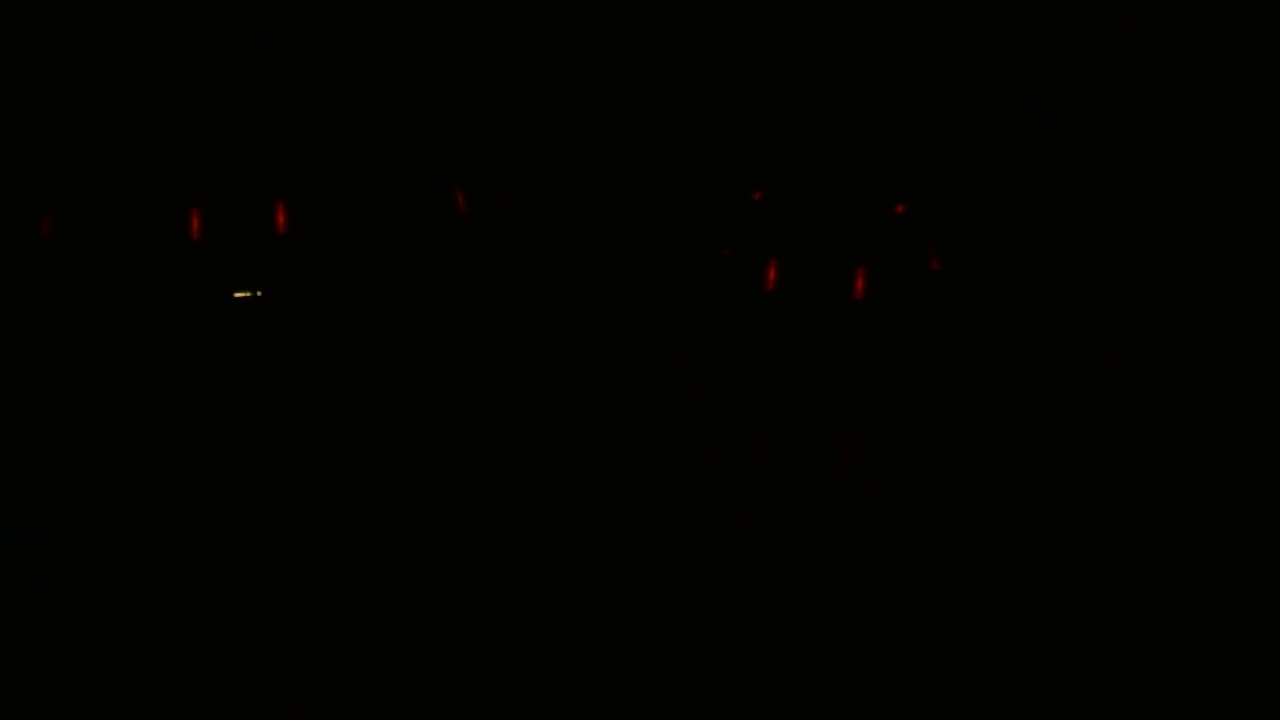pair1: (178, 190, 303, 253)
pair2: (753, 255, 878, 313)
